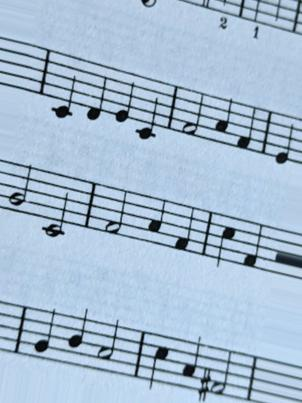note: (47, 43, 78, 123), (132, 67, 160, 145), (145, 325, 171, 392), (84, 57, 109, 125), (32, 298, 57, 365), (65, 305, 89, 373), (214, 206, 238, 273), (180, 333, 203, 400), (172, 196, 195, 259), (143, 191, 166, 252), (113, 64, 135, 126), (241, 215, 264, 274), (235, 97, 257, 157), (274, 107, 295, 169), (213, 94, 235, 151)
